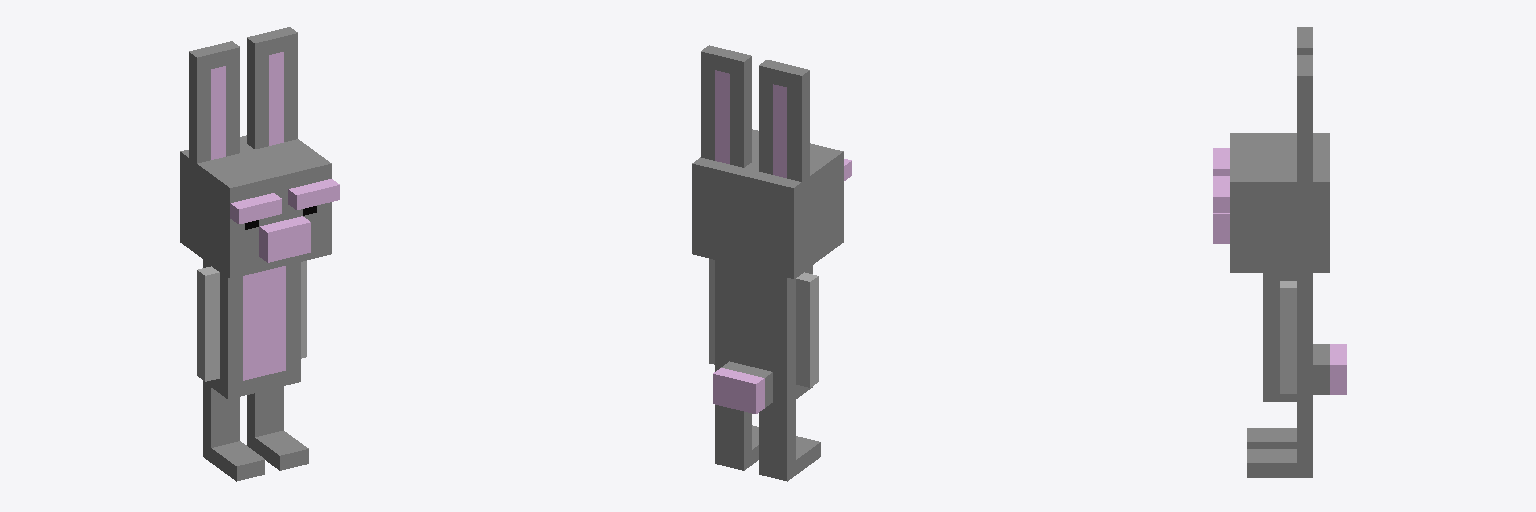
3 views of the same model, side by side, from view 1: azimuth 30°, elevation 25°; view 2: azimuth 150°, elevation 25°; view 3: azimuth 270°, elevation 25° (orthographic).
Size of the model in its own units: 7 by 27 by 8.
Materials: 1 (1 with a texture image).